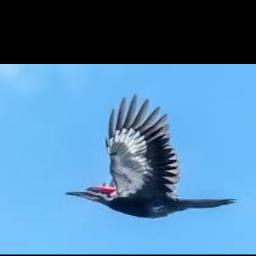Woodpecker: (64, 94, 238, 218)
